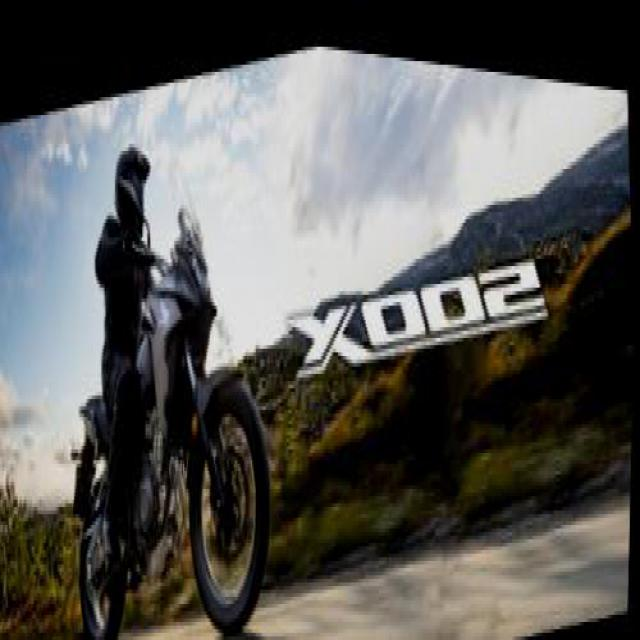CB500X: (59, 151, 284, 636)
